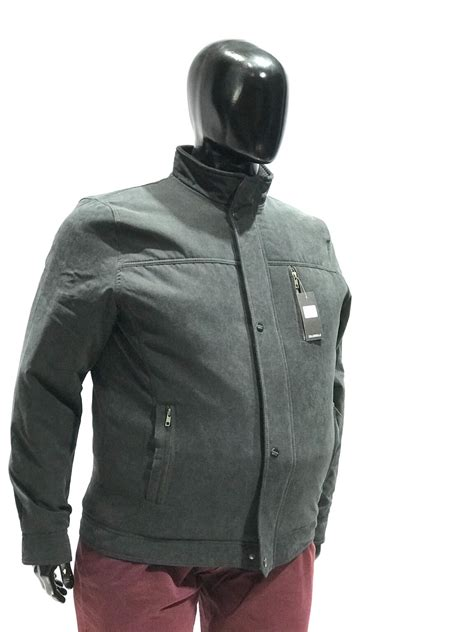gamuza: (13, 178, 350, 566)
